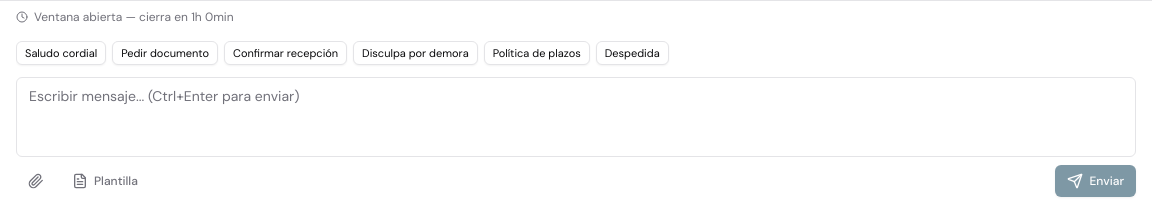
Test case: MessageComposer — paperclip + paste + drag (T13) › send button is enabled when there is text but no chips
Type "hola" into the text box at {"x": 576, "y": 117}, box left=16, top=77, right=1136, bottom=157
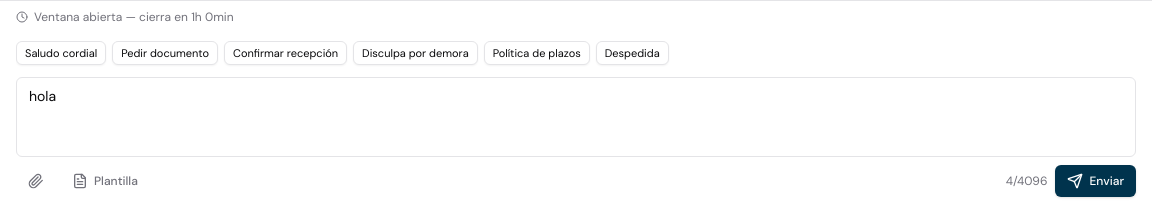
Now the button "Enviar" is enabled, box left=1056, top=165, right=1136, bottom=197
